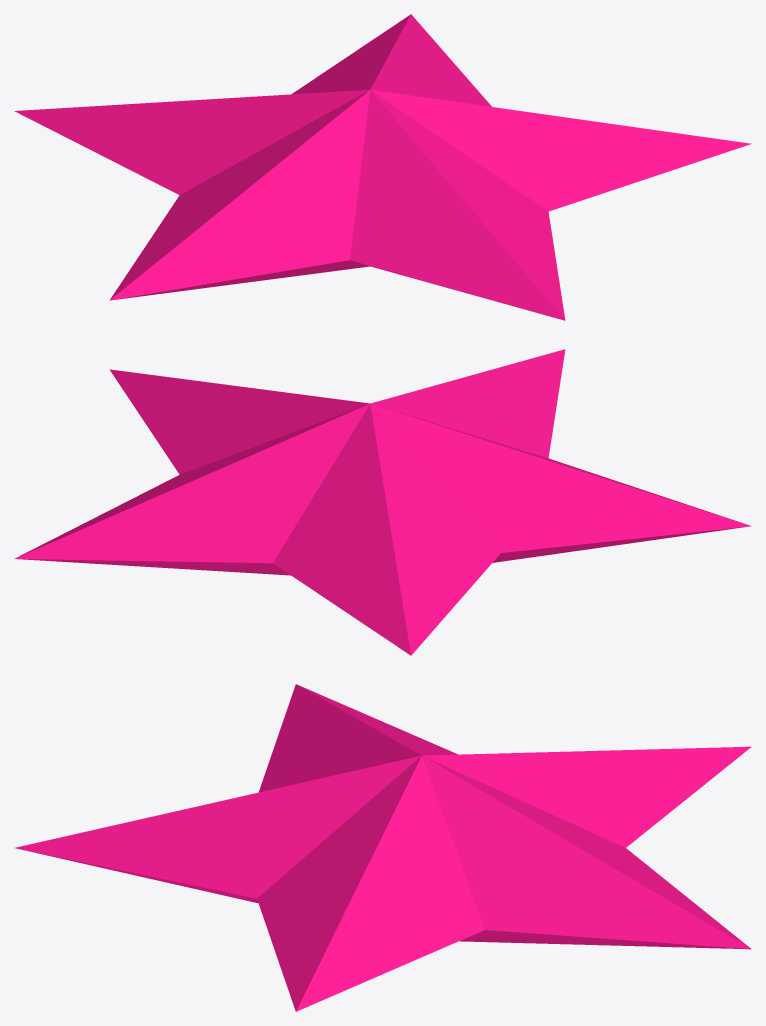
File: star_deeppink.glb
3 renders of one model, top to bottom at view 1: azimuth 30°, elevation 25°; view 2: azimuth 150°, elevation 25°; view 3: azimuth 270°, elevation 25°, orthographic. The views are drawn at different scales.
Parts seen in each view (by area): view 1: 円, 円.001; view 2: 円, 円.001; view 3: 円, 円.001.
Part boxes in pixels (bbox=[...]): 円: bbox=[14, 14, 751, 320]; 円.001: bbox=[112, 260, 529, 310]; 円: bbox=[14, 349, 751, 655]; 円.001: bbox=[17, 526, 749, 575]; 円: bbox=[15, 684, 751, 1011]; 円.001: bbox=[19, 849, 749, 949].
Bounding box in the file's own units: 0.3805 × 0.1 × 0.3618.
